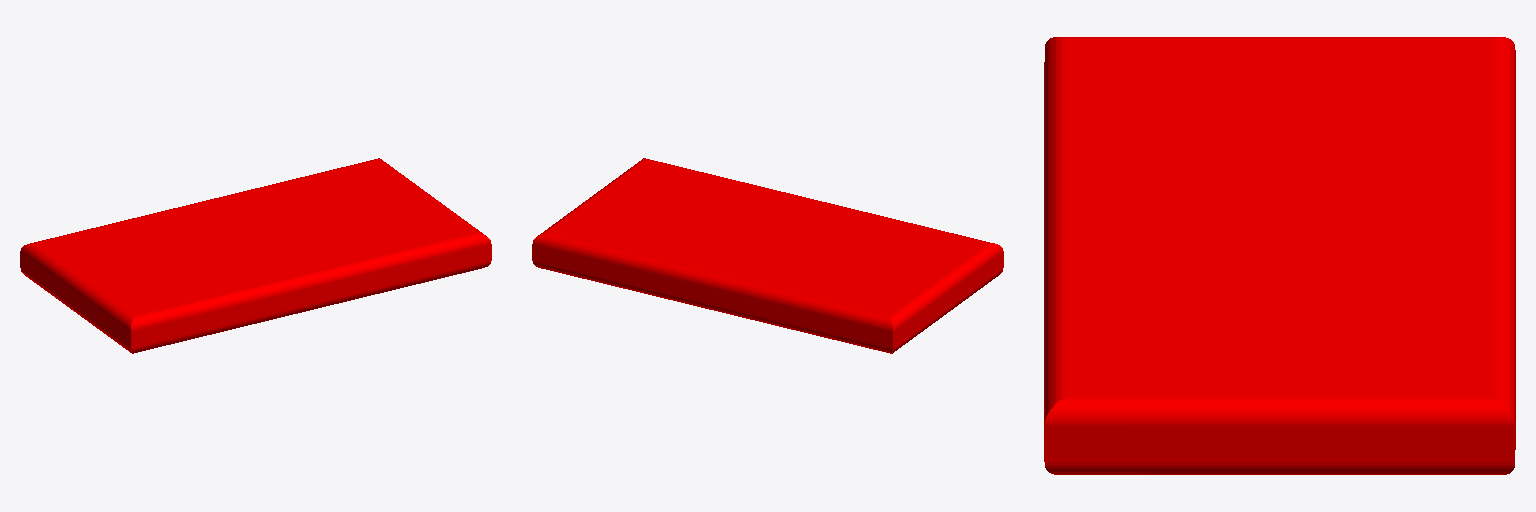
The robot description file, URDF, robot "walls":
<?xml version="1.0" encoding="utf-8"?>
<robot name="walls">
  <link name="base_link">
    <contact>
      <lateral_friction value="0.5"/>
      <rolling_friction value="0.0"/>
      <contact_cfm value="0.0"/>
      <contact_erp value="1.0"/>
    </contact>
    <inertial>
      <origin rpy="0 0 0" xyz="0 0 0"/>
      <mass value="0"/>
      <inertia ixx="0" ixy="0" ixz="0" iyy="0" iyz="0" izz="0"/>
    </inertial>
    <visual>
      <origin rpy="1.57 0 0" xyz="0 0 0"/>
      <geometry>
        <mesh filename="models/meshes/lift/lift.obj" scale="10 10 10"/>
      </geometry>
      <material name="tray_material">
        <color rgba="1 0 0 0.8"/>
      </material>
    </visual>
    <collision>
      <origin rpy="1.57 0 1.57" xyz="0 0 0"/>
      <geometry>
        <mesh filename="models/meshes/fridge/fridge.obj" scale="10 10 10"/>
      </geometry>
    </collision>
  </link>
</robot>

--- What the picture shows (computed from the rendered views, not written in the file) ---
Views: 3 orthographic renders of the robot side by side, from view 1: azimuth 30°, elevation 25°; view 2: azimuth 150°, elevation 25°; view 3: azimuth 270°, elevation 25°.
Robot: walls — 1 links, 0 joints (none); root link base_link; default pose: every joint at zero.
Visible links, largest first — view 1: base_link; view 2: base_link; view 3: base_link.
Link boxes in pixels (box(x1,y1,x2,y2)): base_link: box(20, 158, 491, 353); base_link: box(532, 158, 1003, 353); base_link: box(1044, 37, 1515, 474).
Size in the robot's own frame: 1.59 by 0.8401 by 0.1506 metres.
1 mesh visuals loaded from 1 distinct referenced files (1 OBJ).